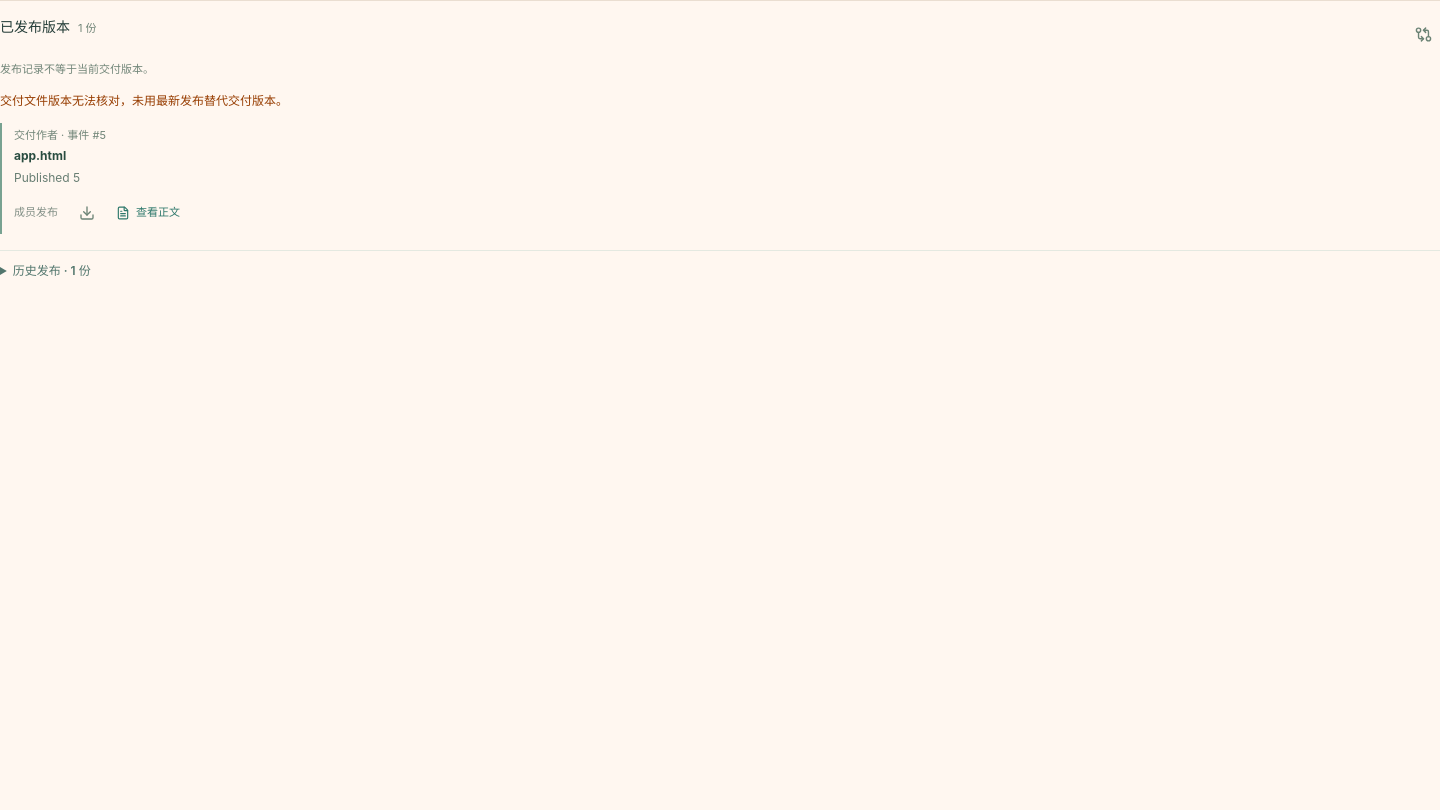
Test case: matching recorded fingerprints do not hide different bodies
The image size is (1440, 810).
Click the button named "对照已发布版本" at (1423,34), box [1406,17,1439,51]
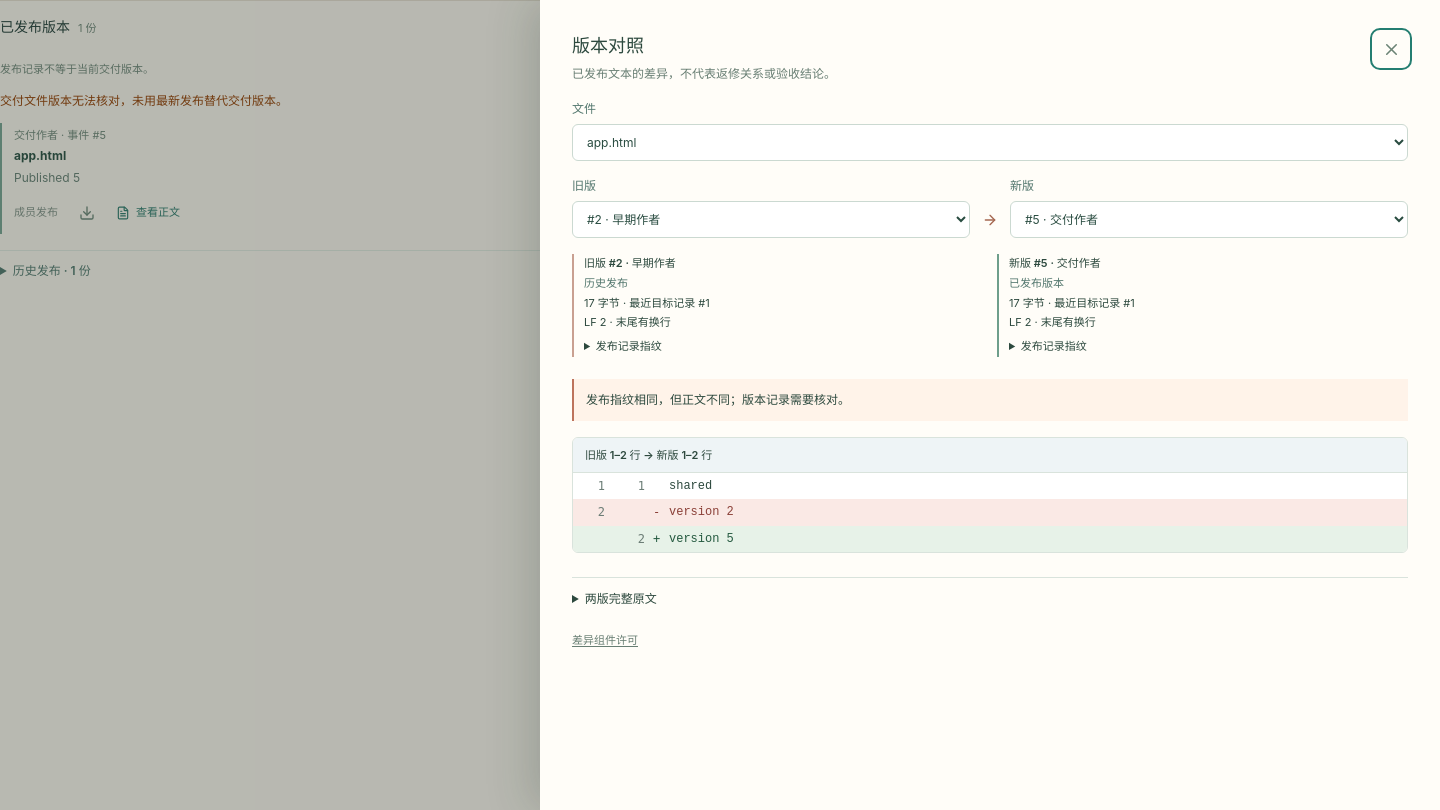
expect the message reads "发布指纹相同，但正文不同；版本记录需要核对。": met, box [586,392,850,407]
expect the element named "逐行差异" shows "version 5": met, box [669,532,734,546]
